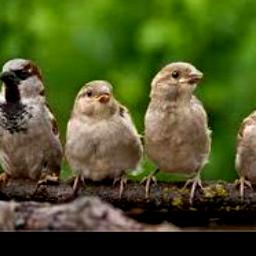Sparrow: (140, 62, 211, 202), (65, 79, 143, 191), (0, 57, 63, 192), (233, 81, 256, 201)
